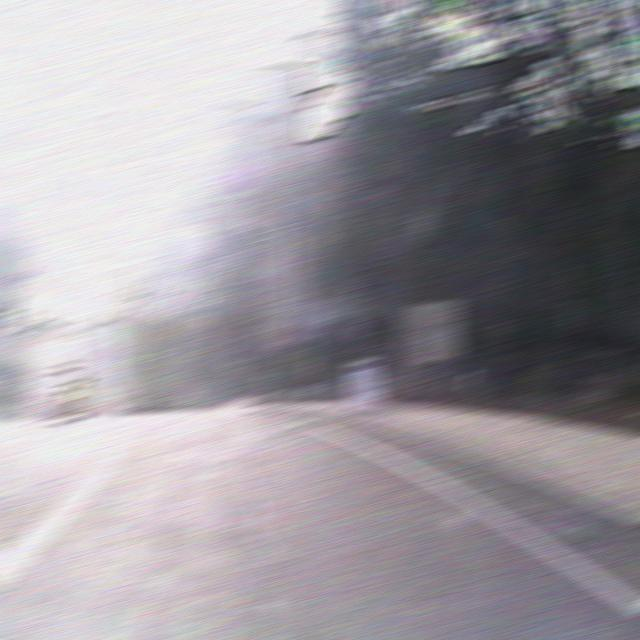stop: (280, 325, 306, 348)
